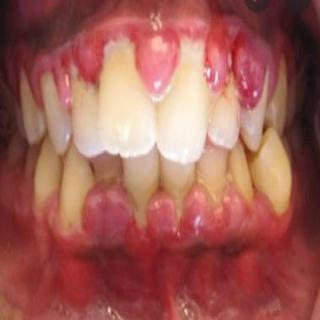Gum Swelling: (50, 183, 250, 248), (104, 17, 207, 98), (203, 17, 271, 102), (30, 35, 105, 107), (249, 197, 293, 241)
calculus: (100, 26, 142, 84), (193, 157, 226, 221), (127, 172, 159, 230), (167, 170, 197, 225), (224, 160, 253, 213), (68, 64, 96, 118), (95, 162, 131, 200), (172, 30, 204, 70)
plaque: (213, 67, 243, 117)
